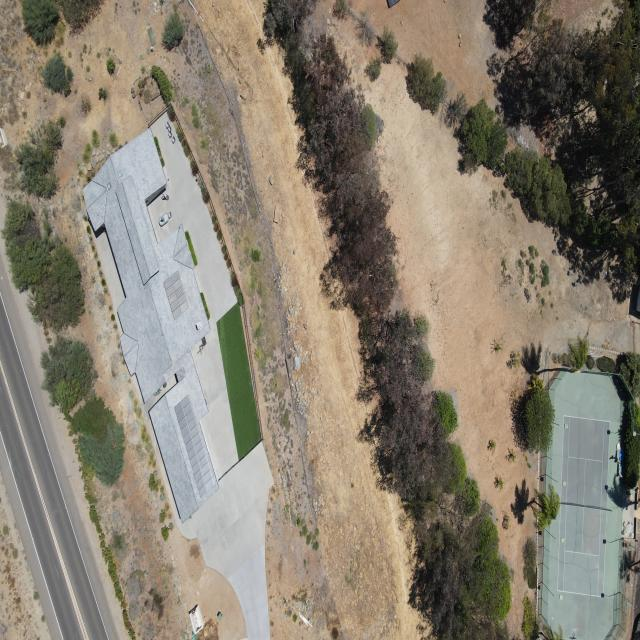solar-panels: (171, 394, 218, 499), (161, 269, 191, 319), (384, 0, 399, 8)
